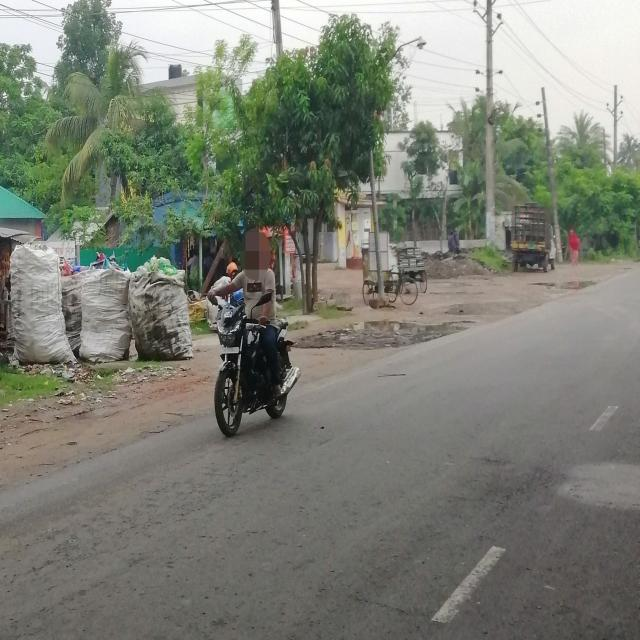Motorbike: (205, 267, 313, 471)
